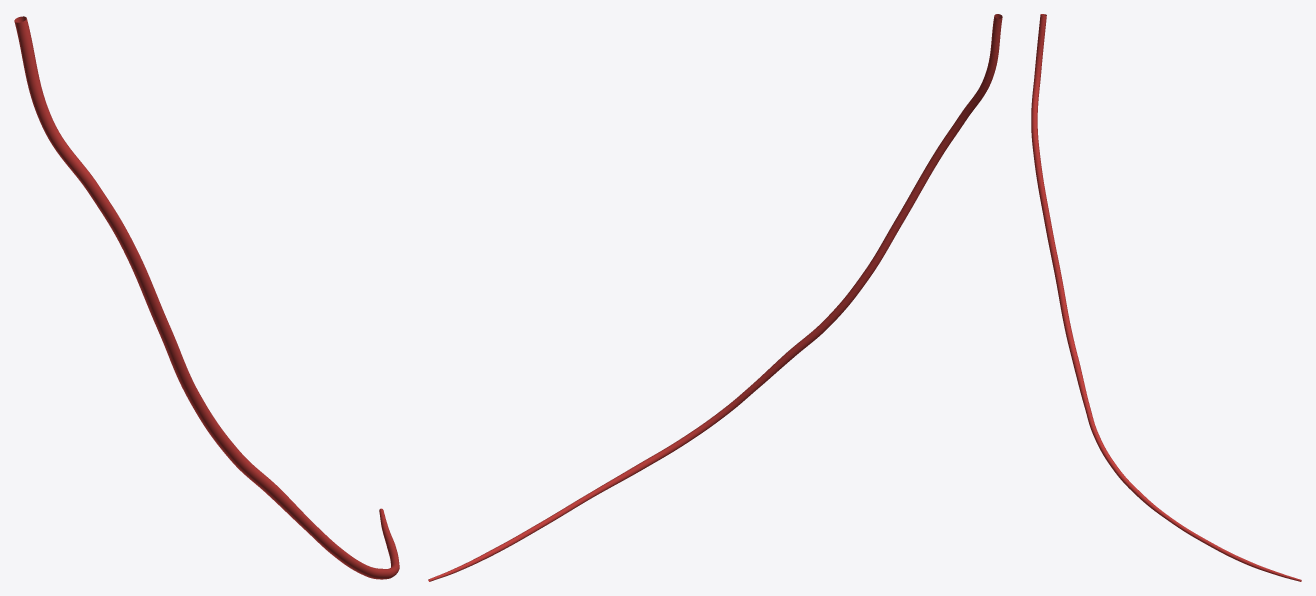
3 views of the same model, side by side, from view 1: azimuth 30°, elevation 25°; view 2: azimuth 150°, elevation 25°; view 3: azimuth 270°, elevation 25° (orthographic). The views are drawn at different scales.
Parts seen in each view (by area): view 1: 右侧颞浅动脉额支; view 2: 右侧颞浅动脉额支; view 3: 右侧颞浅动脉额支.
Part boxes in pixels (x1,y1,x2,y2): 右侧颞浅动脉额支: (14,16,399,579); 右侧颞浅动脉额支: (428,14,1002,581); 右侧颞浅动脉额支: (1031,14,1301,581).
Size of the model in its own units: 0.049 by 0.0624 by 0.0367.
